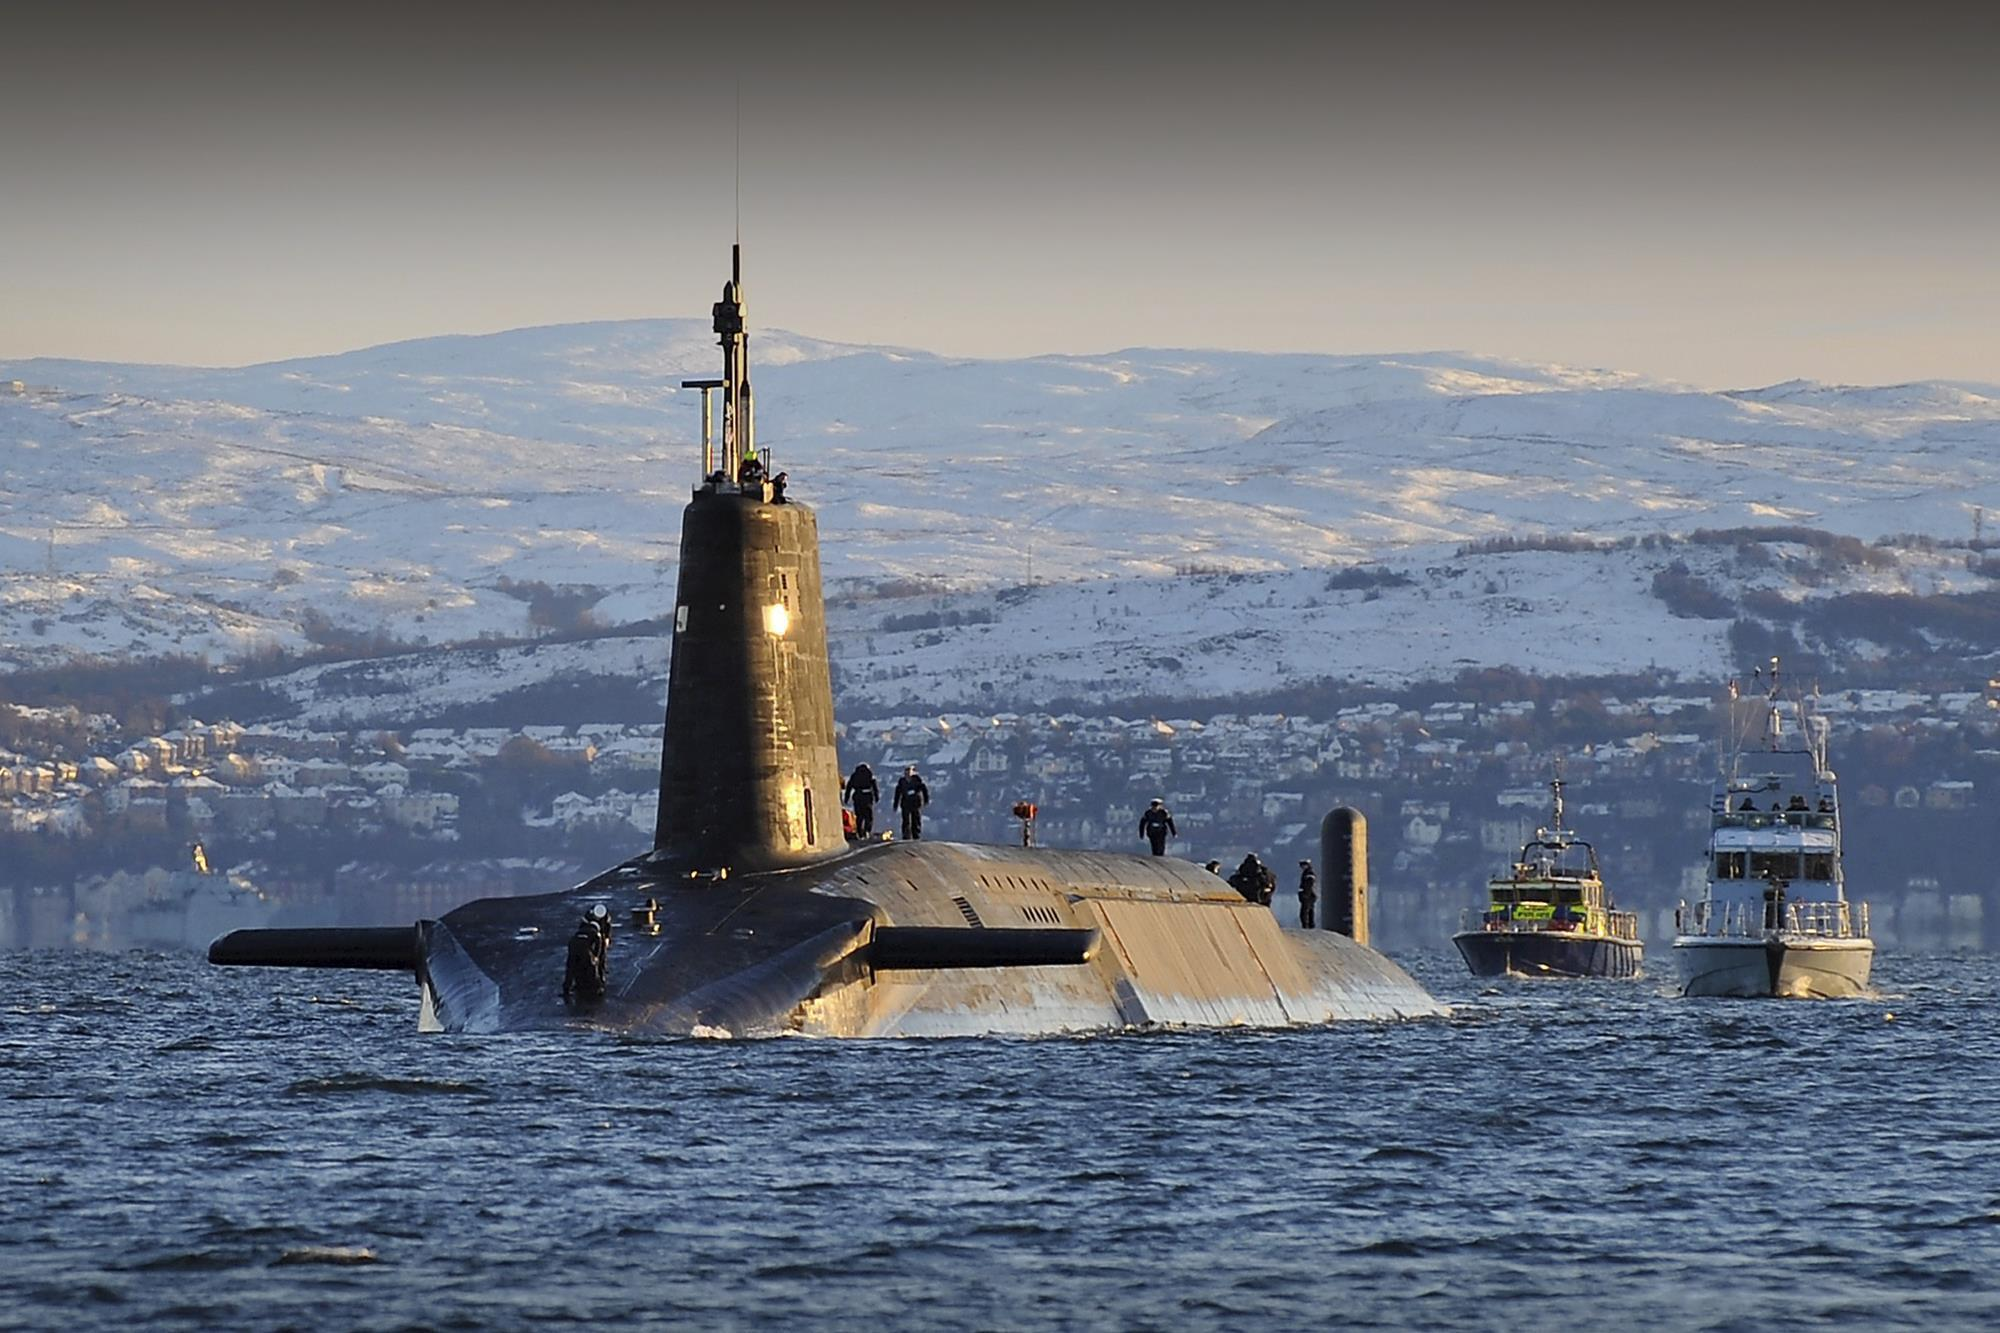Submarine: (190, 230, 1460, 1283)
